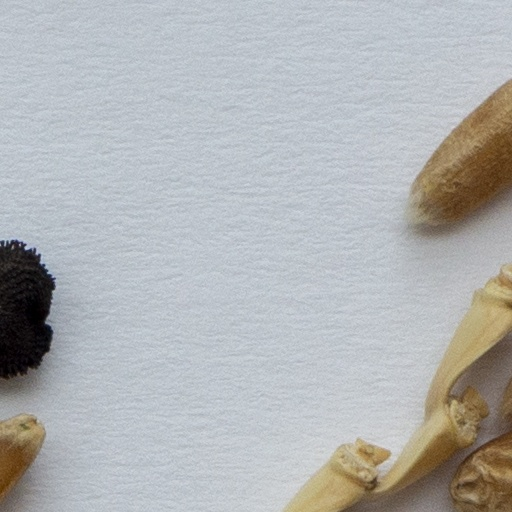Peel-poly: (282, 265, 511, 511)
